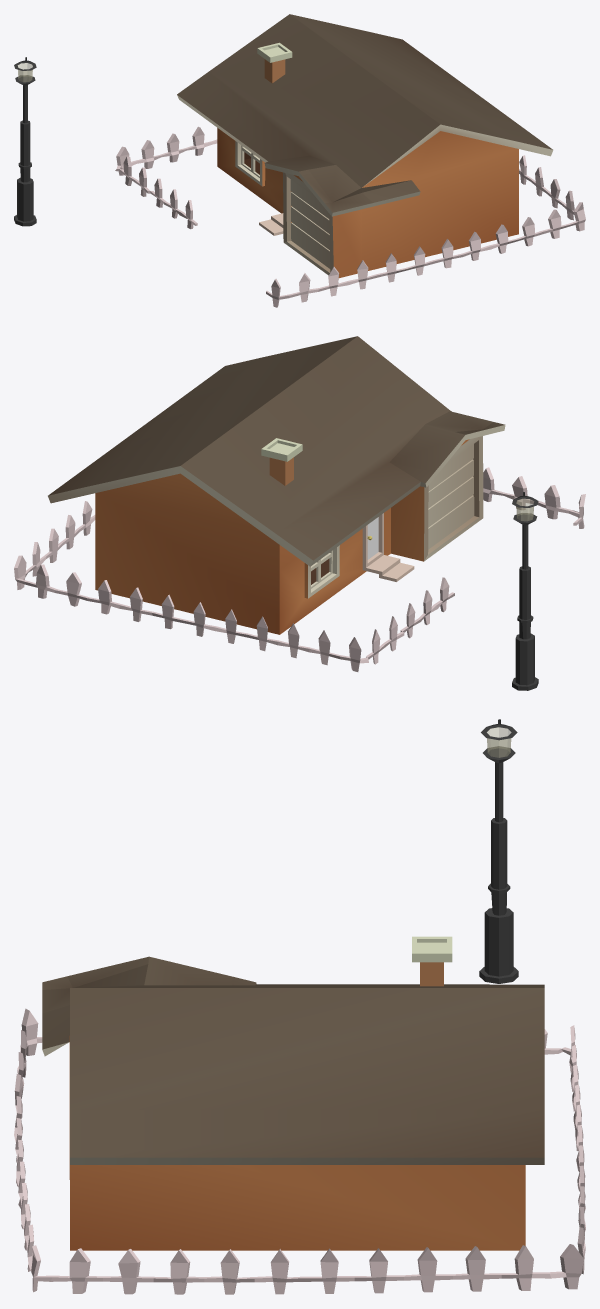
File: orangehouse.glb
The picture shows the model from 3 angles, top to bottom: view 1: azimuth 30°, elevation 25°; view 2: azimuth 150°, elevation 25°; view 3: azimuth 270°, elevation 25°; orthographic projection. The views are drawn at different scales.
Parts seen in each view (by area): view 1: Cube.001, Cube.004, Circle, Cube.002; view 2: Cube.001, Cube.004, Circle, Cube.003, Cube.002; view 3: Cube.001, Cube.004, Circle, Cube.002.
Boxes of the visible parts, x1,y1,x2,y2 form: Cube.001: (177, 14, 553, 278); Cube.004: (115, 126, 585, 307); Circle: (14, 57, 36, 226); Cube.002: (257, 42, 292, 83); Cube.001: (48, 336, 505, 634); Cube.004: (14, 467, 585, 671); Circle: (512, 492, 538, 690); Cube.003: (362, 513, 414, 581); Cube.002: (261, 438, 302, 485); Cube.001: (42, 956, 544, 1250); Cube.004: (14, 1008, 585, 1294); Circle: (479, 719, 518, 983); Cube.002: (412, 936, 452, 986).
Size of the model in its own units: 22.13 by 8.16 by 16.4.
